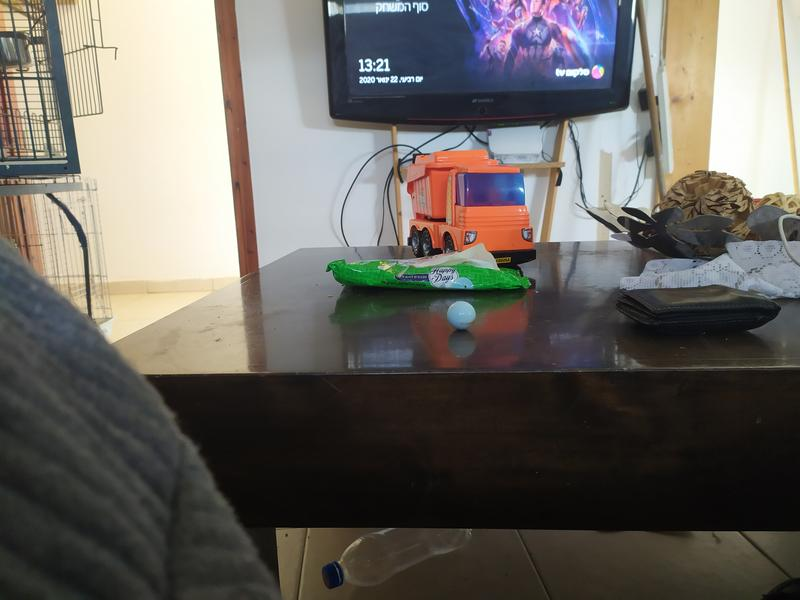Warning: (444, 299, 478, 332)
